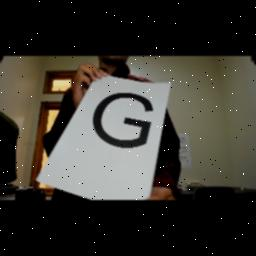g: (90, 90, 156, 150)
